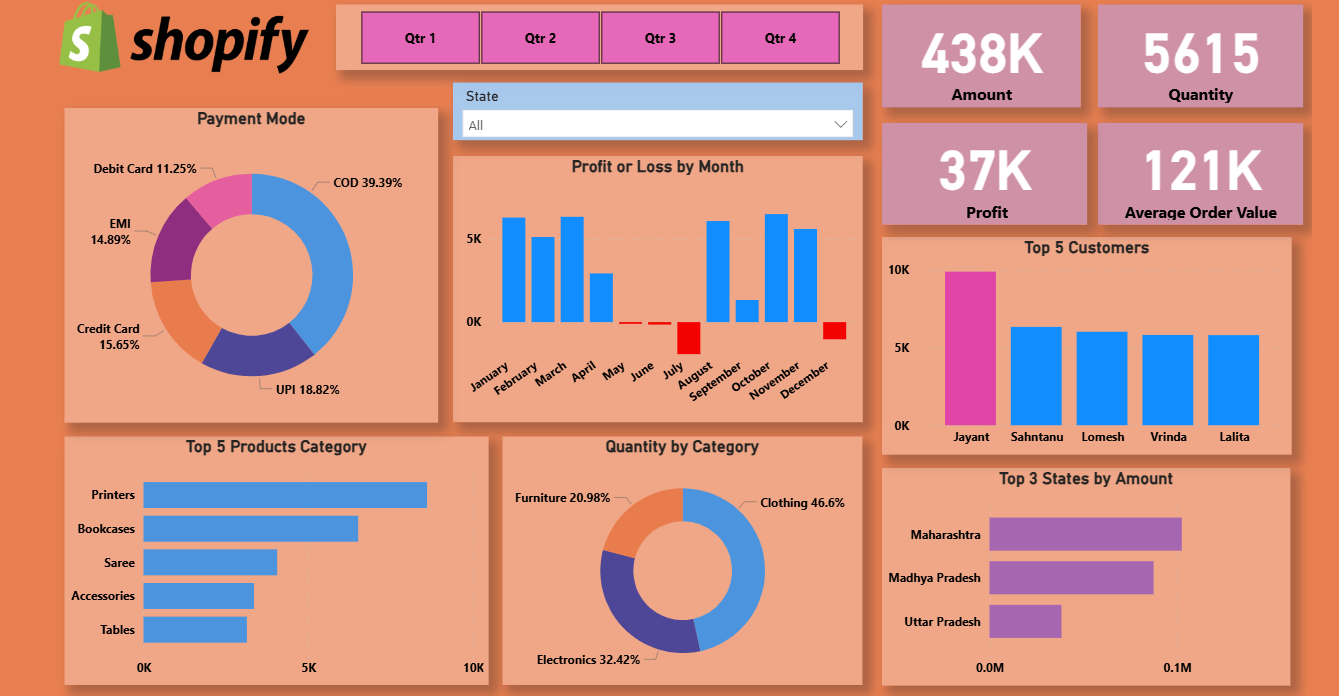

This screenshot's page, from the dashboard's own definition file:
{"tool":"powerbi","page":{"name":"Page 1","canvas":[1280,720],"ordinal":0},"visuals":[{"type":"image","box":[0,0,264,90.7],"z":0},{"type":"columnChart","title":"Profit or Loss by Month","fields":{"Category":["ShopifyDashboardOrders.Order Date.Variation.Date Hierarchy.Month"],"Y":["ShopifyDashboardProducts.Profit"]},"box":[405.6,165.4,416.7,270.4],"z":1000},{"type":"barChart","title":"Top 5 Products Category","fields":{"Category":["ShopifyDashboardProducts.Sub-Category"],"Y":["ShopifyDashboardProducts.Profit"]},"box":[11.1,450.1,431.1,252.9],"z":2000},{"type":"donutChart","title":"Payment Mode","fields":{"Y":["ShopifyDashboardProducts.Quantity"],"Category":["ShopifyDashboardProducts.PaymentMode"]},"box":[11.1,116.1,380.2,319.7],"z":3000},{"type":"donutChart","title":"Quantity by Category ","fields":{"Category":["ShopifyDashboardProducts.Category"],"Y":["ShopifyDashboardProducts.Quantity"]},"box":[456.5,450.1,365.8,252.9],"z":4000},{"type":"barChart","title":" Top 3 States by Amount","fields":{"Category":["ShopifyDashboardOrders.State"],"Y":["ShopifyDashboardProducts.Amount"]},"box":[841.4,482,415.1,221.1],"z":5000},{"type":"columnChart","title":"Top 5 Customers","fields":{"Category":["ShopifyDashboardOrders.CustomerName"],"Y":["ShopifyDashboardProducts.Amount"]},"box":[841.4,246.5,416.7,221.1],"z":6000},{"type":"card","title":"Profit or Loss by Month","fields":{"Values":["ShopifyDashboardProducts.Amount"]},"box":[841.4,11.1,202,105],"z":7000},{"type":"card","title":"Profit or Loss by Month","fields":{"Values":["ShopifyDashboardProducts.Quantity"]},"box":[1060.9,11.1,208.4,105],"z":8000},{"type":"card","title":"Profit or Loss by Month","fields":{"Values":["ShopifyDashboardProducts.Profit"]},"box":[841.4,130.4,208.4,103.4],"z":9000},{"type":"card","title":"Profit or Loss by Month","fields":{"Values":["ShopifyDashboardProducts.Average Order Value"]},"box":[1060.9,130.4,208.4,103.4],"z":10000},{"type":"slicer","title":"Profit or Loss by Month","fields":{"Values":["ShopifyDashboardOrders.Order Date.Variation.Date Hierarchy.Quarter"]},"box":[286.3,11.1,536,66.8],"z":11000},{"type":"slicer","title":"Profit or Loss by Month","fields":{"Values":["ShopifyDashboardOrders.State"]},"box":[405.6,90.7,416.7,58.9],"z":12000}]}

Visuals, with their boxes in screenshot pixels (x1, y1, x2, y2):
image: 45, 0, 307, 79
"Profit or Loss by Month" columnChart: 447, 153, 860, 421
"Top 5 Products Category" barChart: 56, 435, 483, 686
"Payment Mode" donutChart: 56, 105, 433, 421
"Quantity by Category " donutChart: 497, 435, 860, 686
" Top 3 States by Amount" barChart: 879, 467, 1290, 686
"Top 5 Customers" columnChart: 879, 234, 1291, 453
"Profit or Loss by Month" card: 879, 1, 1079, 105
"Profit or Loss by Month" card: 1096, 1, 1302, 105
"Profit or Loss by Month" card: 879, 119, 1085, 221
"Profit or Loss by Month" card: 1096, 119, 1302, 221
"Profit or Loss by Month" slicer: 329, 1, 860, 67
"Profit or Loss by Month" slicer: 447, 79, 860, 138
